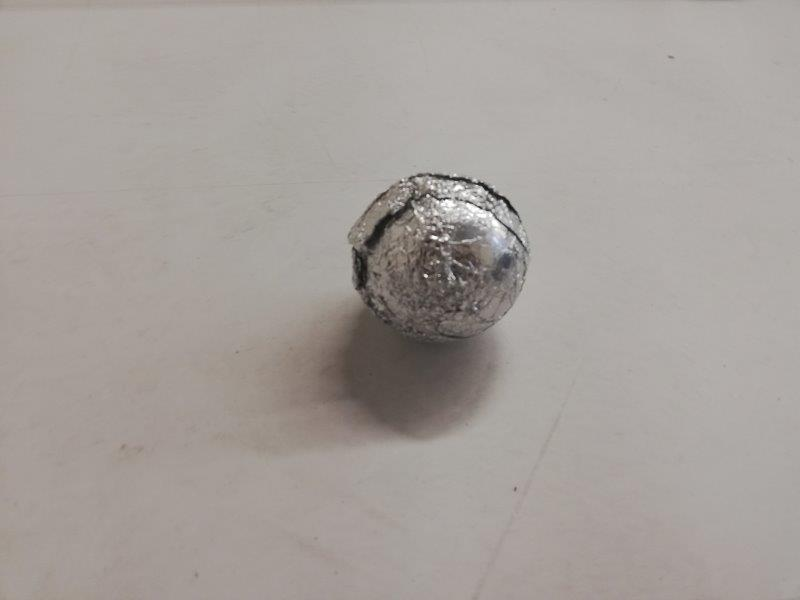bianca: (349, 169, 532, 345)
